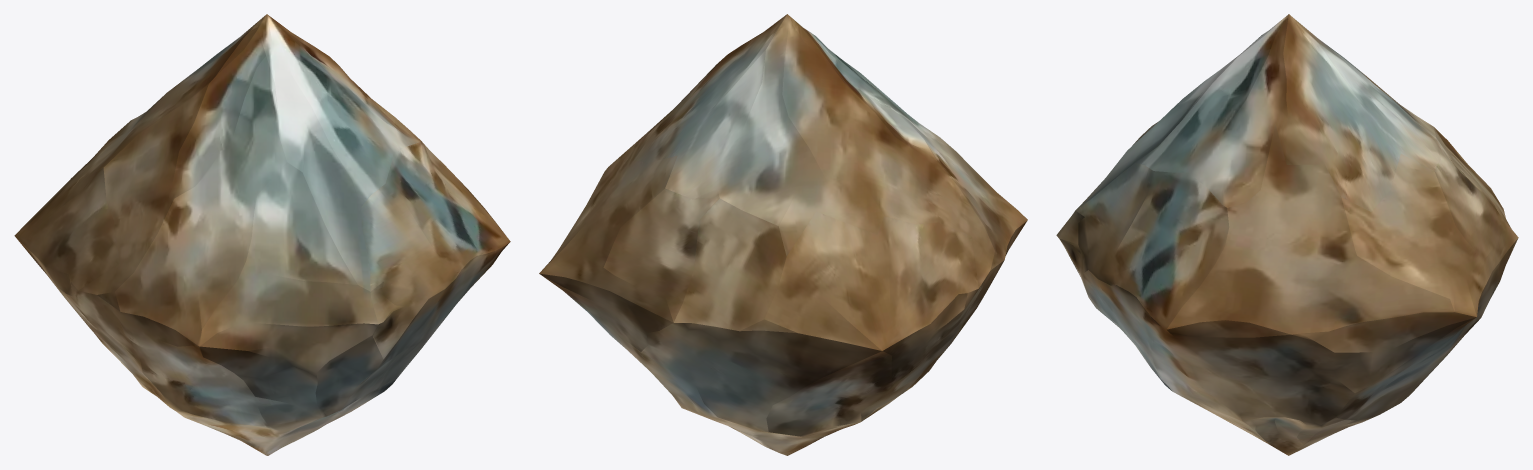
The model's file is m2Crystal.glb.
The picture shows the model from 3 angles, left to right: view 1: azimuth 30°, elevation 25°; view 2: azimuth 150°, elevation 25°; view 3: azimuth 270°, elevation 25°; orthographic projection.
Parts seen in each view (by area): view 1: model; view 2: model; view 3: model.
Boxes of the visible parts, x1=… form: model: x1=14, y1=14, x2=510, y2=455; model: x1=539, y1=14, x2=1027, y2=455; model: x1=1056, y1=14, x2=1518, y2=455.
Bounding box in the file's own units: 1.71 × 1.9 × 1.8.
1 material, 1 textured.
